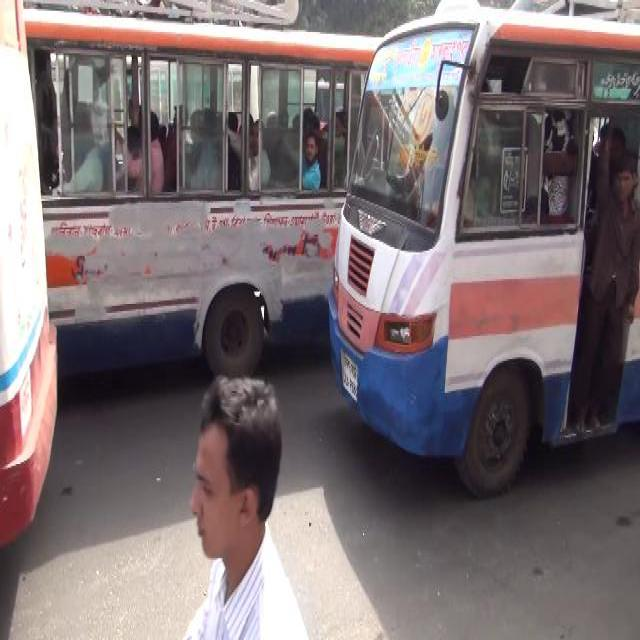Truck: (327, 5, 639, 496), (26, 6, 388, 388), (0, 1, 58, 547)
